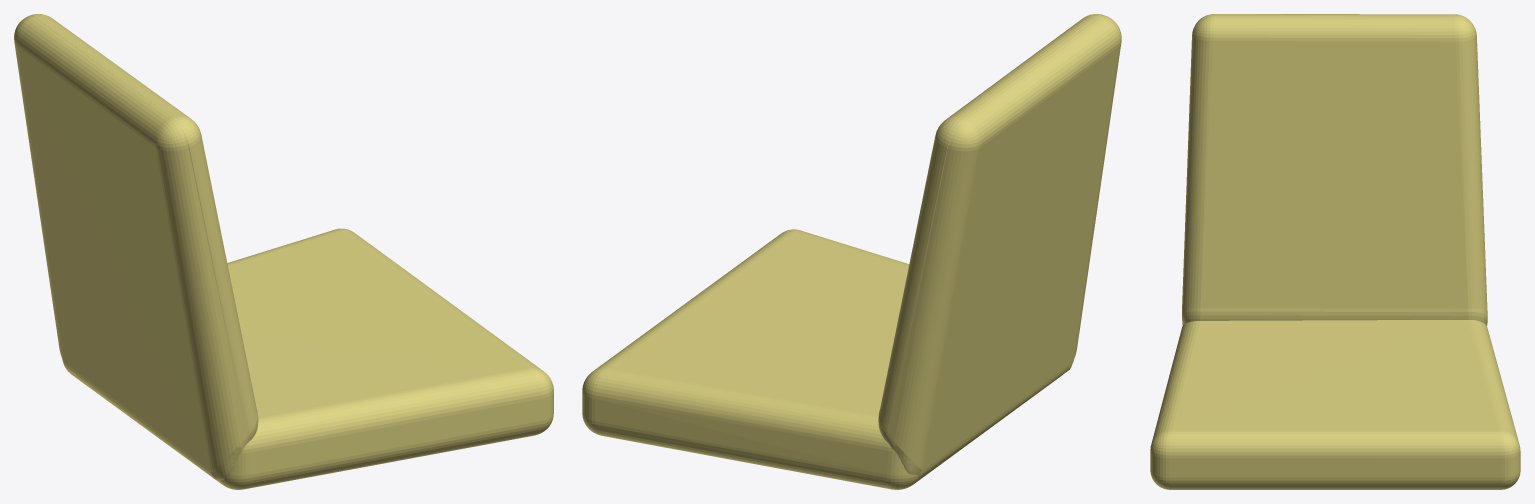
The model's file is chair_seat.dae.
3 renders of one model, left to right at view 1: azimuth 30°, elevation 25°; view 2: azimuth 150°, elevation 25°; view 3: azimuth 270°, elevation 25°, orthographic. The views are drawn at different scales.
Visible parts, largest first — view 1: Cube; view 2: Cube; view 3: Cube.
Boxes of the visible parts, box(x1,y1,x2,y2) form: Cube: box(14, 14, 553, 489); Cube: box(582, 14, 1121, 489); Cube: box(1150, 14, 1520, 489).
Size of the model in its own units: 0.5284 by 0.5237 by 0.5182.
